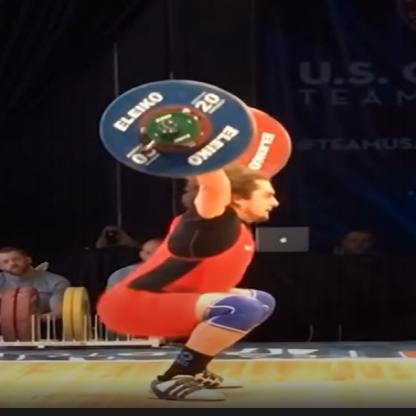Barbell: (155, 121, 183, 136)
